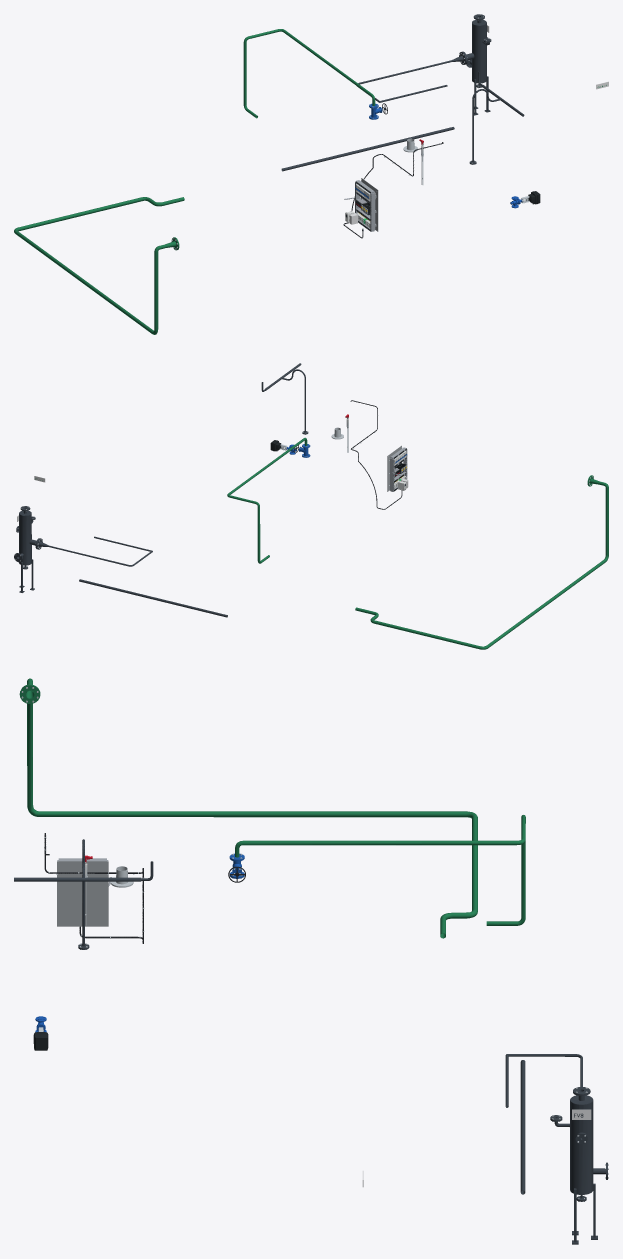
File: s4000-5-Dn29FbGh.glb
The picture shows the model from 3 angles, top to bottom: view 1: azimuth 30°, elevation 25°; view 2: azimuth 150°, elevation 25°; view 3: azimuth 270°, elevation 25°; orthographic projection. The views are drawn at different scales.
Parts seen in each view (by area): view 1: deaerator_feed / green, separator_fv8 / dark, cabinet_interior / cabinet_interior_0.npz, bottom_discharge / dark, from_economizer / green; view 2: deaerator_feed / green, separator_fv8 / dark, cabinet_interior / cabinet_interior_0.npz, bottom_discharge / dark, from_economizer / green; view 3: deaerator_feed / green, cabinet_interior / cabinet_interior_0.npz, separator_fv8 / dark, from_economizer / green, pressure_header / dark, direct_inlet / green, bottom_discharge / dark.
Part boxes in pixels (box(x1,y1,x2,y2)): deaerator_feed / green: box(14, 197, 184, 334); separator_fv8 / dark: box(462, 14, 491, 115); cabinet_interior / cabinet_interior_0.npz: box(344, 178, 378, 231); bottom_discharge / dark: box(281, 127, 454, 171); from_economizer / green: box(243, 29, 314, 118); deaerator_feed / green: box(355, 475, 608, 649); separator_fv8 / dark: box(14, 506, 39, 592); cabinet_interior / cabinet_interior_0.npz: box(387, 445, 407, 491); bottom_discharge / dark: box(79, 579, 227, 617); from_economizer / green: box(227, 474, 269, 563); deaerator_feed / green: box(19, 678, 477, 938); cabinet_interior / cabinet_interior_0.npz: box(57, 858, 111, 926); separator_fv8 / dark: box(550, 1087, 607, 1244); from_economizer / green: box(421, 815, 525, 925); pressure_header / dark: box(14, 839, 153, 949); direct_inlet / green: box(235, 840, 395, 857); bottom_discharge / dark: box(520, 1060, 525, 1194).
Bounding box in the file's own units: 9.48 × 2.87 × 5.58.
